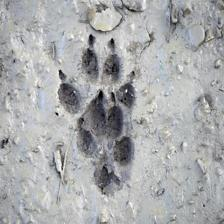coyote: (69, 91, 137, 194)
